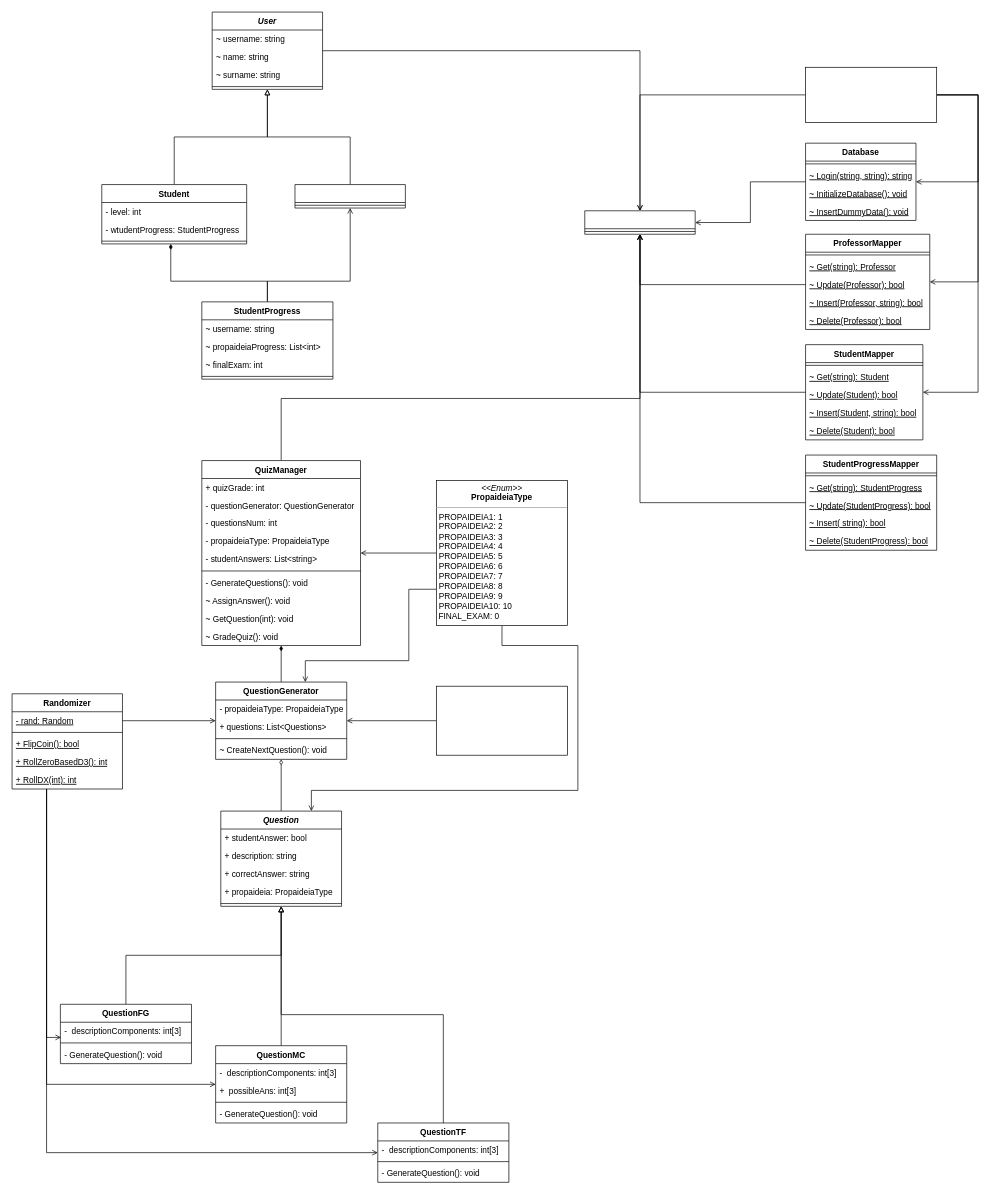
Image size: 996x1196. Some labels were removed from this diagram. Here are the shapes that lost their labels. From the top down, the centre of each, then its label:
point (871, 94): <<Struct>> UserTypes STUDENT: = "student" PROFESSOR = "professor"
point (349, 196): Professor
point (639, 222): WindowsForms
point (502, 720): <<Enum>> QuestionFormat FILL_GAPS: 0 MULTIPLE_CHOICE: 1 TRUE_FALSE: 2
